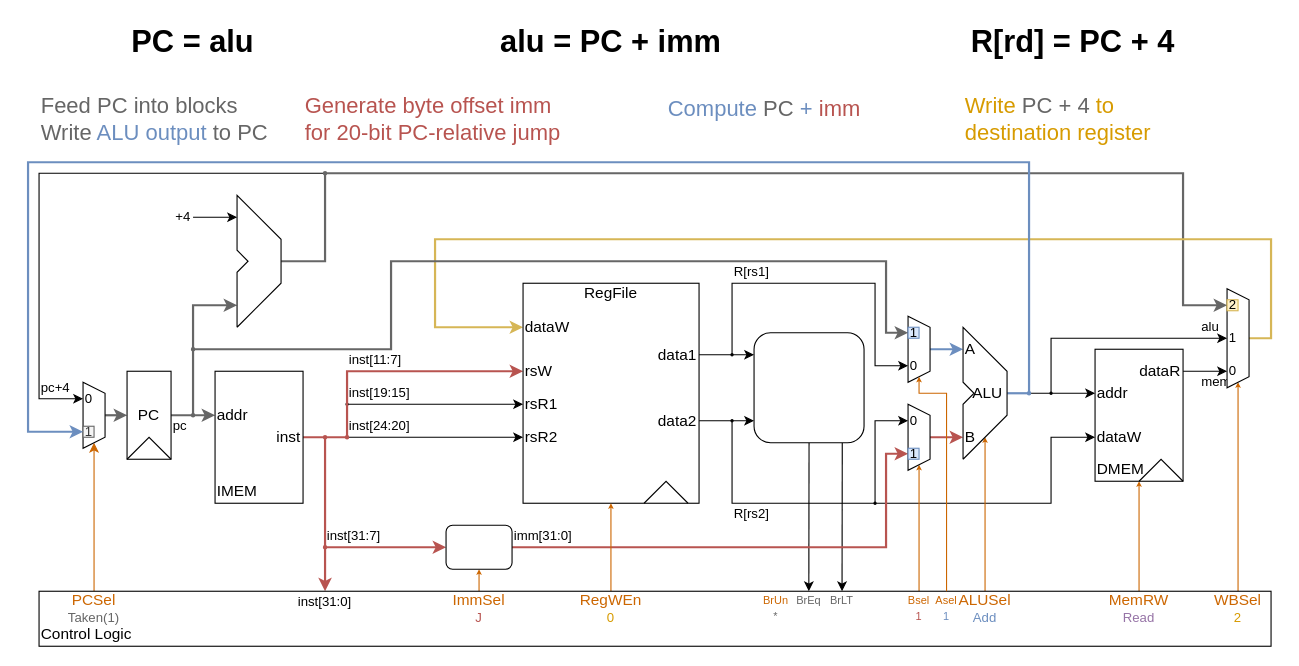
This 1299x666 diagram has some shape labels left out. Here are the shapes that lost their labels. From the top down, the centre of each, then its label:
At point 258,283: "Add".
At point 808,387: "Branch Comp.".
At point 478,546: "Imm. Gen".
